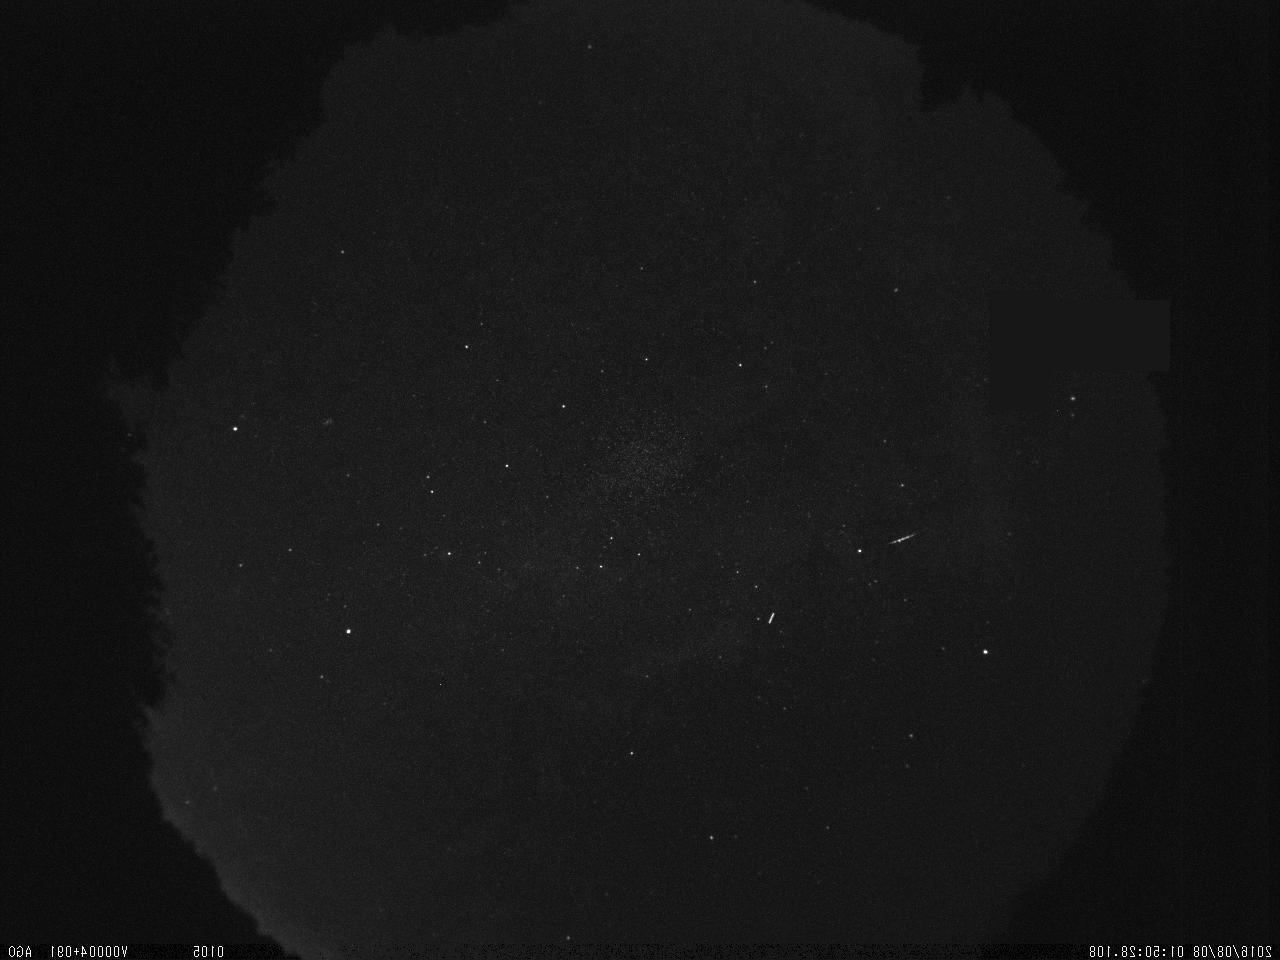meteor: (879, 520, 925, 555)
satelite: (765, 606, 782, 630)
